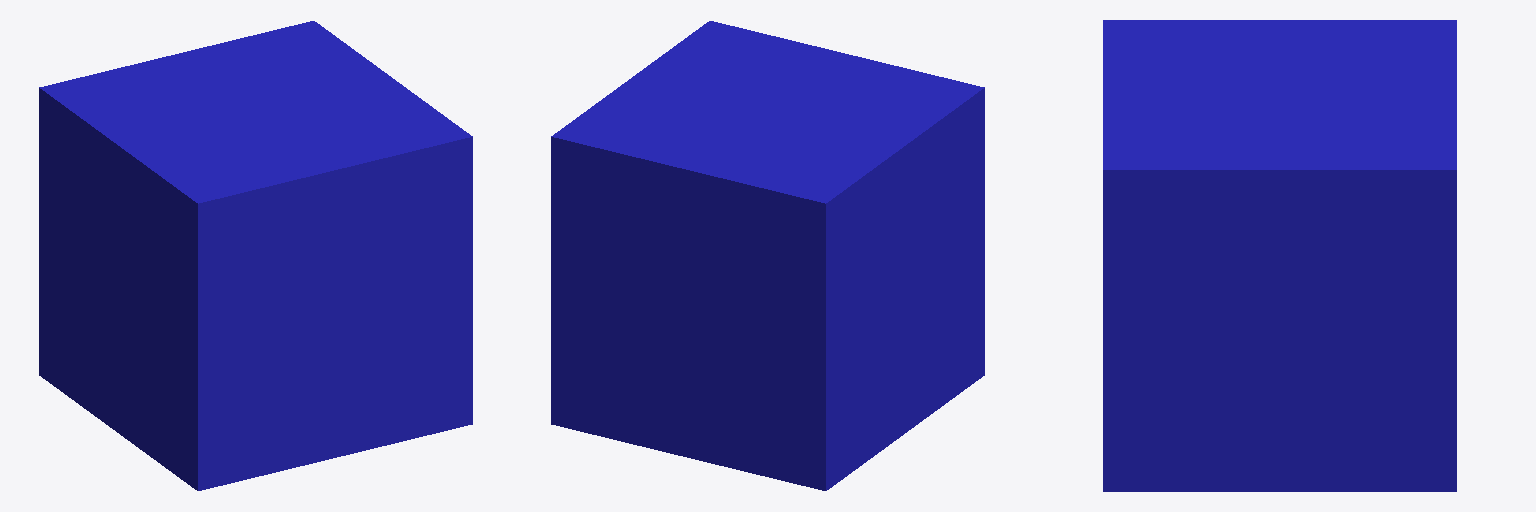
URDF robot description (cube_1):
<?xml version="1.0" ?>
<robot name="cube_1">
    <link name="cube_link_1">
        <inertial>
            <origin rpy="0 0 0" xyz="0.0 0.0 0.0"/>
            
            <mass value="0.5"/>
            
            <inertia 
                ixx="0.00093915" 
                ixy="0.0" 
                ixz="0.0" 
                iyy="0.00093915" 
                iyz="0.0" 
                izz="0.00093915"/>
        </inertial>
        
        <visual>
            <origin rpy="0 0 0" xyz="0 0 0"/>
            <geometry>
            <mesh filename="meshes/objects/cube_1.stl"/>
            </geometry>
            <material name="Blue">
            <color rgba="0.2 0.2 0.8 1.0"/>
            </material>
        </visual>
        
        <collision>
            <origin rpy="0 0 0" xyz="0 0 0"/>
            <geometry>
                <box size="0.092 0.092 0.092"/>
            </geometry>
        </collision>
    </link>
</robot>

--- What the picture shows (computed from the rendered views, not written in the file) ---
Views: 3 orthographic renders of the robot side by side, from view 1: azimuth 30°, elevation 25°; view 2: azimuth 150°, elevation 25°; view 3: azimuth 270°, elevation 25°.
Robot: cube_1 — 1 links, 0 joints (none); root link cube_link_1; default pose: every joint at zero.
Visible links, largest first — view 1: cube_link_1; view 2: cube_link_1; view 3: cube_link_1.
Boxes of the visible links, box(x1,y1,x2,y2) form: cube_link_1: box(39, 21, 472, 490); cube_link_1: box(551, 21, 984, 490); cube_link_1: box(1103, 20, 1456, 491).
Size in the robot's own frame: 0.092 by 0.092 by 0.092 metres.
Meshes: 1 distinct files referenced, 1 mesh visuals loaded (1 binary STL).
